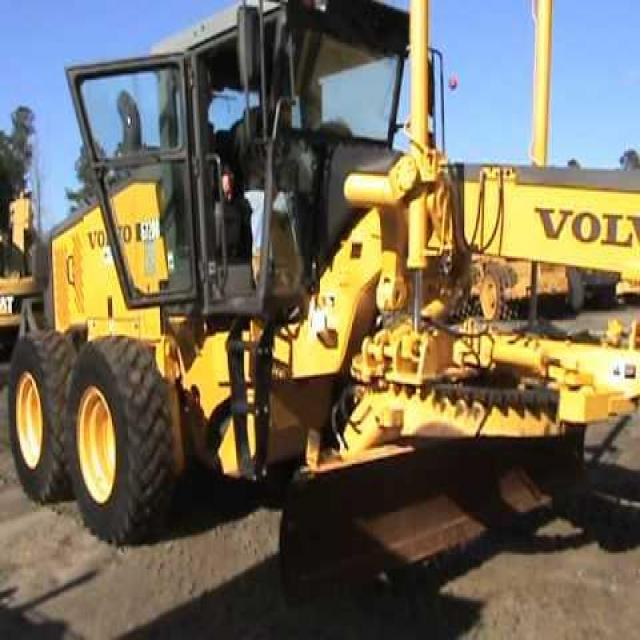Grader: (8, 7, 639, 638)
